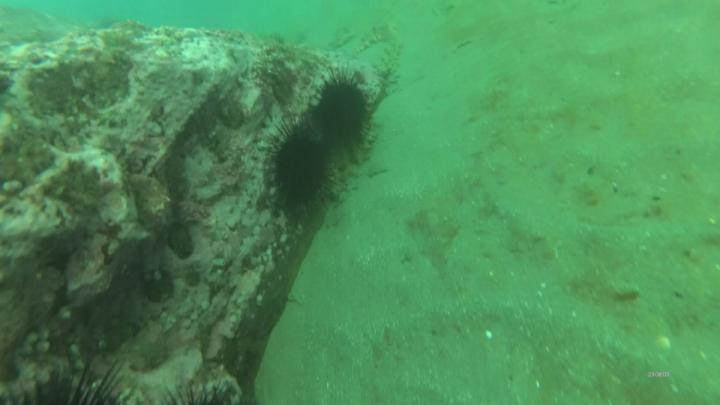echinus: (270, 122, 332, 213), (311, 75, 375, 155)
